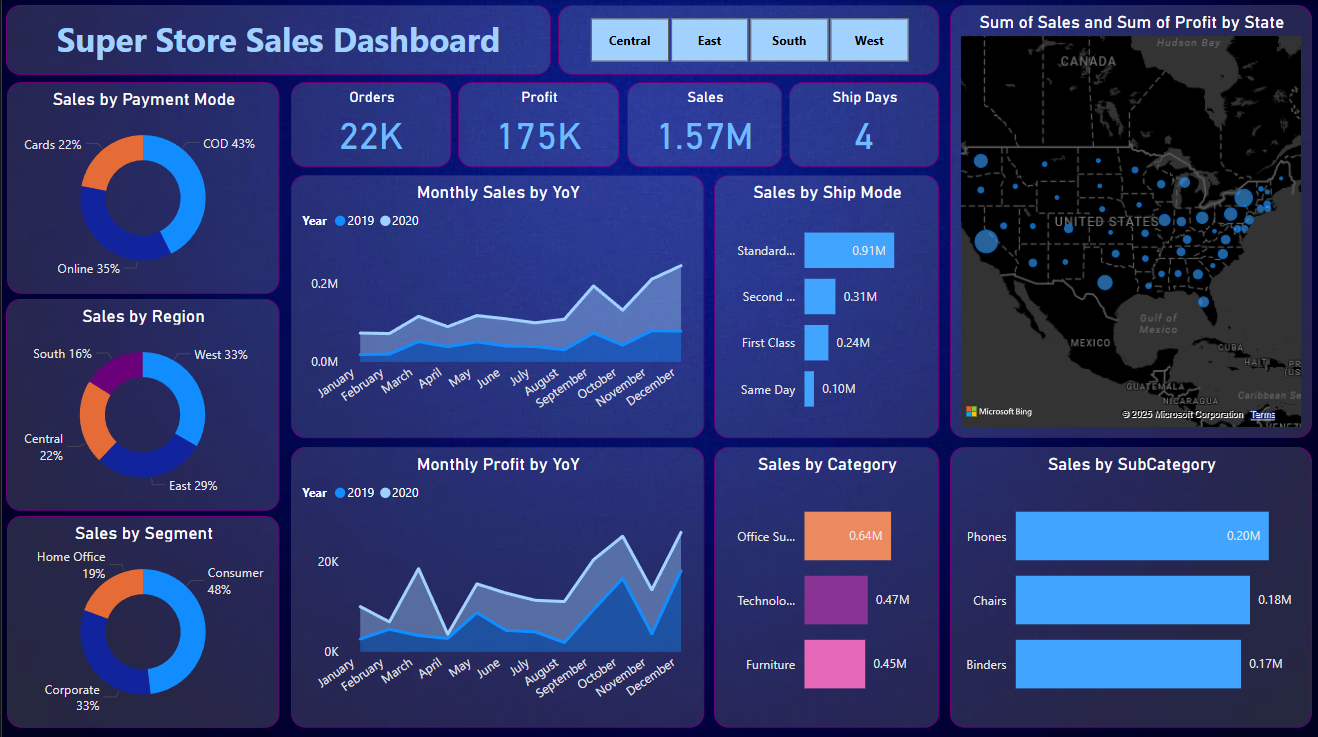

What the dashboard file says about the page in this screenshot:
{"tool":"powerbi","page":{"name":"Dashboard","canvas":[1280,720],"ordinal":0},"visuals":[{"type":"clusteredBarChart","title":"Sales by Category","fields":{"Category":["SuperStore_Sales_Dataset.Category"],"Y":["Sum(SuperStore_Sales_Dataset.Sales)"]},"box":[692.5,434.8,218.8,273.3],"z":0},{"type":"clusteredBarChart","title":"Sales by SubCategory","fields":{"Category":["SuperStore_Sales_Dataset.Sub-Category"],"Y":["Sum(SuperStore_Sales_Dataset.Sales)"]},"box":[922.1,434.8,352.1,273.3],"z":1000},{"type":"clusteredBarChart","title":"Sales by Ship Mode","fields":{"Category":["SuperStore_Sales_Dataset.Ship Mode"],"Y":["Sum(SuperStore_Sales_Dataset.Sales)"]},"box":[692.5,170.2,218.8,255.8],"z":2000},{"type":"stackedAreaChart","title":"Monthly Sales by  YoY","fields":{"Y":["Sum(SuperStore_Sales_Dataset.Sales)"],"Series":["SuperStore_Sales_Dataset.Order Date.Variation.Date Hierarchy.Year"],"Category":["SuperStore_Sales_Dataset.Order Date.Variation.Date Hierarchy.Month","SuperStore_Sales_Dataset.Order Date.Variation.Date Hierarchy.Day"]},"box":[281.1,170.2,401.7,255.8],"z":3000},{"type":"stackedAreaChart","title":"Monthly Profit by  YoY","fields":{"Series":["SuperStore_Sales_Dataset.Order Date.Variation.Date Hierarchy.Year"],"Category":["SuperStore_Sales_Dataset.Order Date.Variation.Date Hierarchy.Month","SuperStore_Sales_Dataset.Order Date.Variation.Date Hierarchy.Day"],"Y":["Sum(SuperStore_Sales_Dataset.Profit)"]},"box":[281.1,434.8,401.7,273.3],"z":4000},{"type":"map","fields":{"Category":["SuperStore_Sales_Dataset.State"],"Size":["Sum(SuperStore_Sales_Dataset.Sales)"]},"box":[922.1,4.9,352.1,421.2],"z":5000},{"type":"donutChart","title":"Sales by Segment","fields":{"Category":["SuperStore_Sales_Dataset.Segment"],"Y":["Sum(SuperStore_Sales_Dataset.Sales)"]},"box":[4.9,501.9,264.6,206.2],"z":6000},{"type":"donutChart","title":"Sales by Payment Mode","fields":{"Category":["SuperStore_Sales_Dataset.Payment Mode"],"Y":["Sum(SuperStore_Sales_Dataset.Sales)"]},"box":[4.9,79.8,264.6,206.2],"z":7000},{"type":"slicer","fields":{"Values":["SuperStore_Sales_Dataset.Region"]},"box":[540.8,4.9,370.6,68.1],"z":8000},{"type":"textbox","box":[3.9,4.9,530.1,68.1],"z":9000},{"type":"card","title":"Sales","fields":{"Values":["Sum(SuperStore_Sales_Dataset.Sales)"]},"box":[607.9,79.8,150.8,82.7],"z":10000},{"type":"card","title":"Orders","fields":{"Values":["Sum(SuperStore_Sales_Dataset.Quantity)"]},"box":[281.1,79.8,155.6,82.7],"z":11000},{"type":"card","title":"Profit","fields":{"Values":["Sum(SuperStore_Sales_Dataset.Profit)"]},"box":[443.5,79.8,156.6,82.7],"z":12000},{"type":"card","title":"Ship Days","fields":{"Values":["Avg(SuperStore_Sales_Dataset.AvgDelivery)"]},"box":[765.5,79.8,145.9,82.7],"z":13000},{"type":"donutChart","title":"Sales by Region","fields":{"Y":["Sum(SuperStore_Sales_Dataset.Sales)"],"Category":["SuperStore_Sales_Dataset.Region"]},"box":[3.9,290.8,265.5,206.2],"z":13001}]}

Visuals, with their boxes in screenshot pixels (x1, y1, x2, y2), scaled from the page's 1280x720 canvas onto the 1318x737 screenshot:
"Sales by Category" clusteredBarChart: [x1=713, y1=445, x2=938, y2=725]
"Sales by SubCategory" clusteredBarChart: [x1=949, y1=445, x2=1312, y2=725]
"Sales by Ship Mode" clusteredBarChart: [x1=713, y1=174, x2=938, y2=436]
"Monthly Sales by  YoY" stackedAreaChart: [x1=289, y1=174, x2=703, y2=436]
"Monthly Profit by  YoY" stackedAreaChart: [x1=289, y1=445, x2=703, y2=725]
map - SuperStore_Sales_Dataset.State x Sum(SuperStore_Sales_Dataset.Sales): [x1=949, y1=5, x2=1312, y2=436]
"Sales by Segment" donutChart: [x1=5, y1=514, x2=278, y2=725]
"Sales by Payment Mode" donutChart: [x1=5, y1=82, x2=278, y2=293]
slicer - SuperStore_Sales_Dataset.Region: [x1=557, y1=5, x2=938, y2=75]
textbox: [x1=4, y1=5, x2=550, y2=75]
"Sales" card: [x1=626, y1=82, x2=781, y2=166]
"Orders" card: [x1=289, y1=82, x2=450, y2=166]
"Profit" card: [x1=457, y1=82, x2=618, y2=166]
"Ship Days" card: [x1=788, y1=82, x2=938, y2=166]
"Sales by Region" donutChart: [x1=4, y1=298, x2=277, y2=509]
